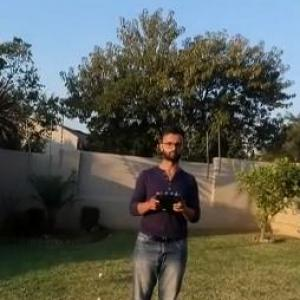follow: (118, 118, 208, 299)
